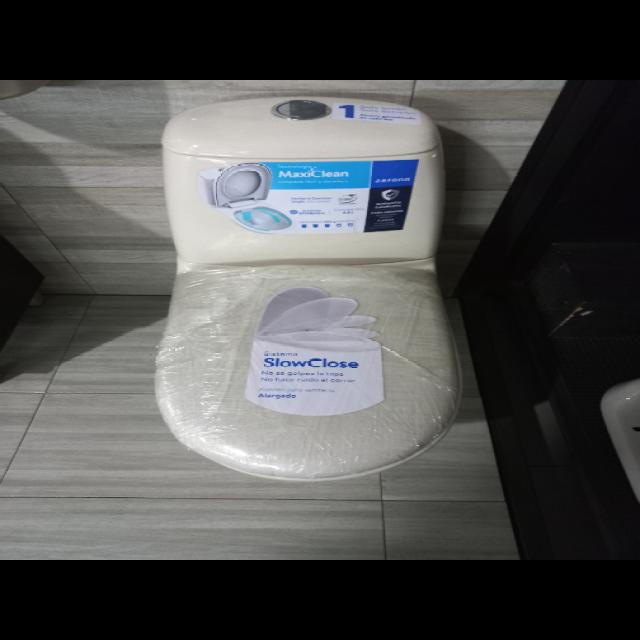toilet: (152, 96, 462, 481)
